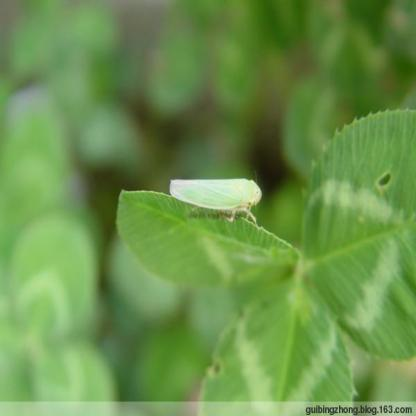Green-Leafhopper: (165, 172, 267, 226)
